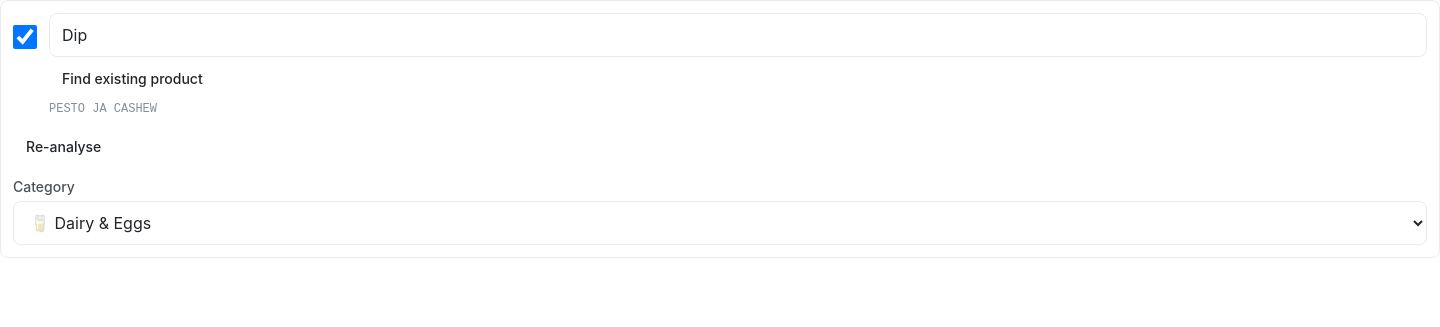
Scenario: re-analyse (Q38) › shows a toast with the error message and leaves the row unchanged
Click the button "Re-analyse" at point(64, 147), box [13,129,114,165]
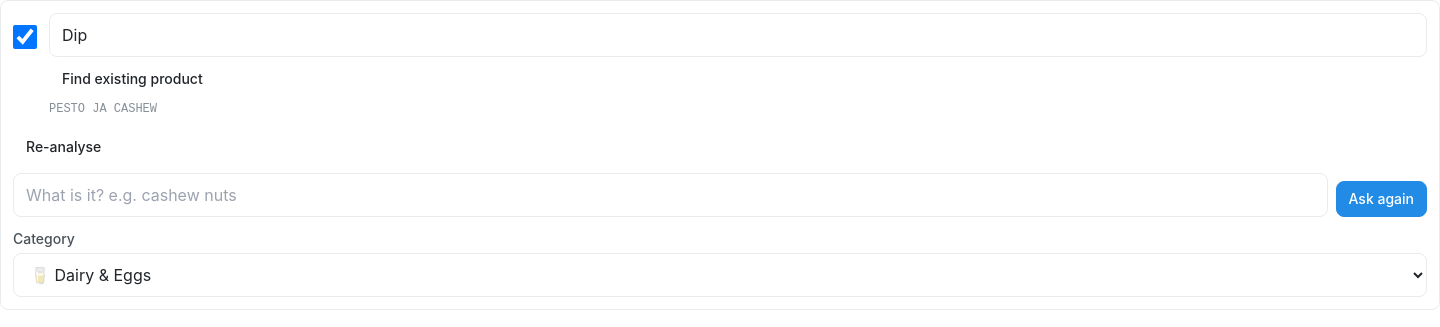
Click the button "Ask again" at point(1381, 199), box [1336,181,1427,217]
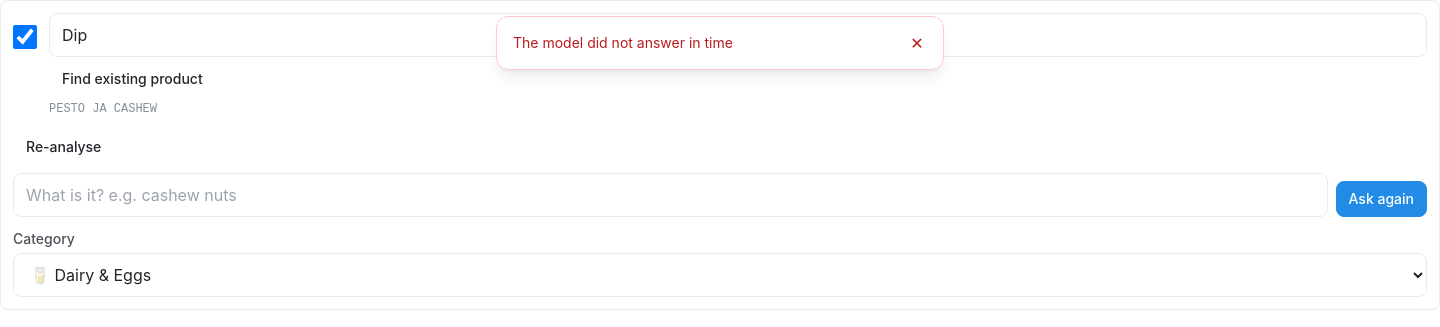
Result: the text "The model did not answer in time" is shown at [513,34,733,51]
